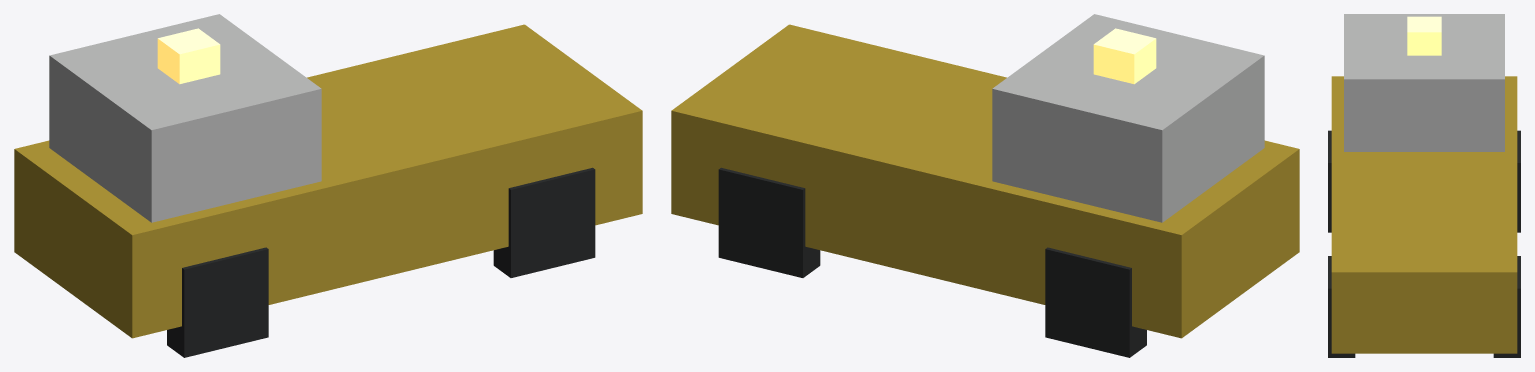
Rendered from sdsc_tug_operacional.glb.
The picture shows the model from 3 angles, left to right: view 1: azimuth 30°, elevation 25°; view 2: azimuth 150°, elevation 25°; view 3: azimuth 270°, elevation 25°; orthographic projection. The views are drawn at different scales.
Parts seen in each view (by area): view 1: SDSC_Tug_Body_web, SDSC_Tug_Cab_web, SDSC_Tug_Wheels_web, SDSC_Tug_Beacon_web; view 2: SDSC_Tug_Body_web, SDSC_Tug_Cab_web, SDSC_Tug_Wheels_web, SDSC_Tug_Beacon_web; view 3: SDSC_Tug_Body_web, SDSC_Tug_Cab_web, SDSC_Tug_Wheels_web, SDSC_Tug_Beacon_web.
Boxes of the visible parts, x1=… form: SDSC_Tug_Body_web: x1=14, y1=24, x2=642, y2=338; SDSC_Tug_Cab_web: x1=49, y1=14, x2=321, y2=222; SDSC_Tug_Wheels_web: x1=167, y1=167, x2=595, y2=357; SDSC_Tug_Beacon_web: x1=157, y1=28, x2=220, y2=84; SDSC_Tug_Body_web: x1=671, y1=24, x2=1299, y2=338; SDSC_Tug_Cab_web: x1=992, y1=14, x2=1264, y2=222; SDSC_Tug_Wheels_web: x1=718, y1=167, x2=1146, y2=357; SDSC_Tug_Beacon_web: x1=1093, y1=28, x2=1156, y2=84; SDSC_Tug_Body_web: x1=1331, y1=76, x2=1517, y2=353; SDSC_Tug_Cab_web: x1=1344, y1=14, x2=1504, y2=151; SDSC_Tug_Wheels_web: x1=1328, y1=130, x2=1520, y2=357; SDSC_Tug_Beacon_web: x1=1407, y1=16, x2=1441, y2=55.
Size of the model in its own units: 7.5 by 3.59 by 3.12.
